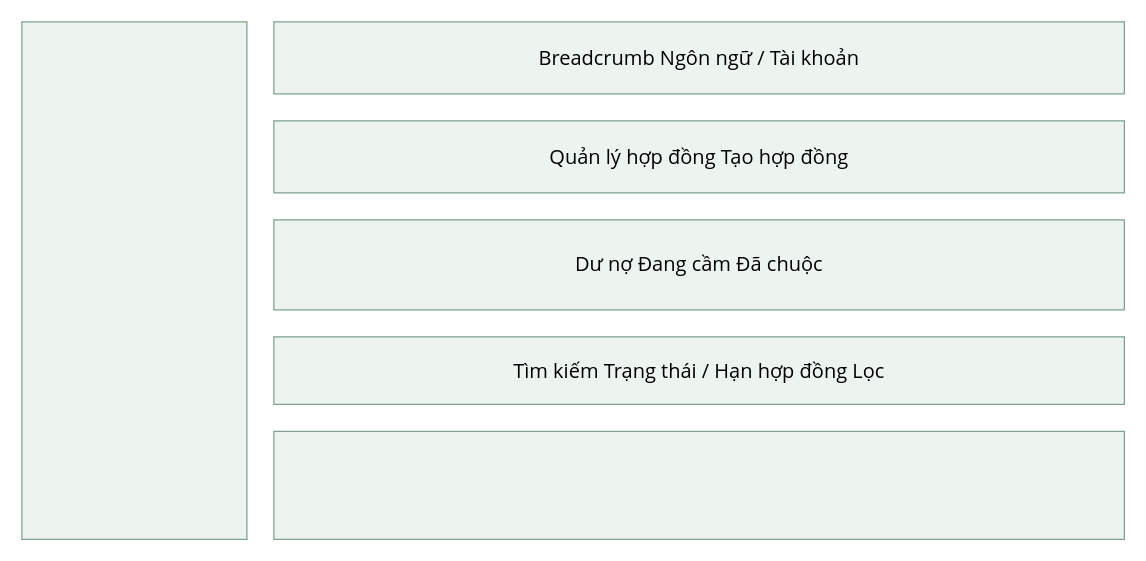
This 1146x561 diagram has some shape labels left out. The centre of each missing label's shape, as x and y in pixels:
"Cảnh báo hạn và bảng dữ liệu Ngày đến hạn / Phân trang" belongs at (698,484).
"SIDEBAR Hợp đồng Khách hàng Nhân viên Bảo mật" belongs at (134,280).
